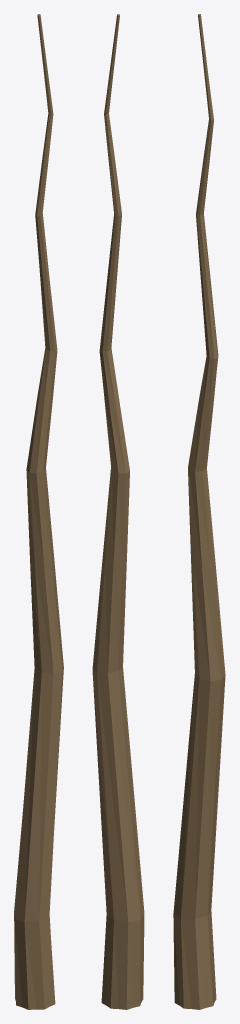
Rendered from TreeTrunk.dae.
3 renders of one model, left to right at view 1: azimuth 30°, elevation 25°; view 2: azimuth 150°, elevation 25°; view 3: azimuth 330°, elevation 25°, orthographic.
Visible parts, largest first — view 1: ID2; view 2: ID2; view 3: ID2.
Boxes of the visible parts, x1=… form: ID2: x1=14, y1=14, x2=63, y2=1009; ID2: x1=92, y1=14, x2=144, y2=1009; ID2: x1=173, y1=14, x2=225, y2=1009.
Bounding box in the file's own units: 0.1195 × 0.0939 × 2.4.
